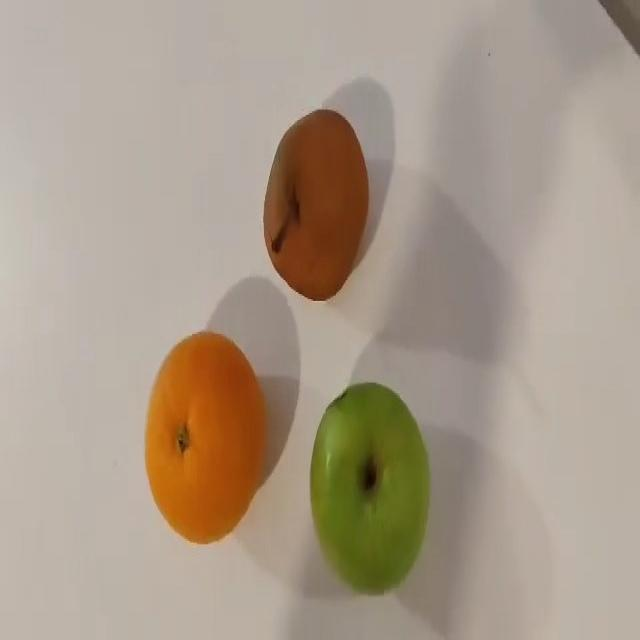Apple: (309, 381, 430, 595), (262, 107, 369, 301)
Orange: (144, 330, 267, 544)
